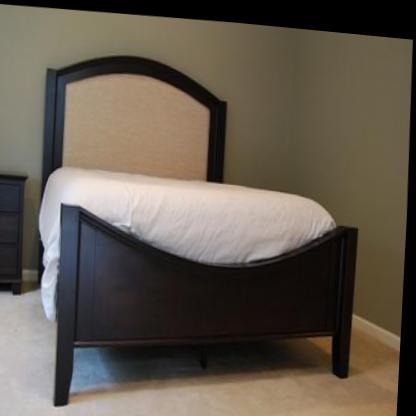Bed: (40, 53, 360, 404)
Nightstand: (0, 172, 29, 293)
